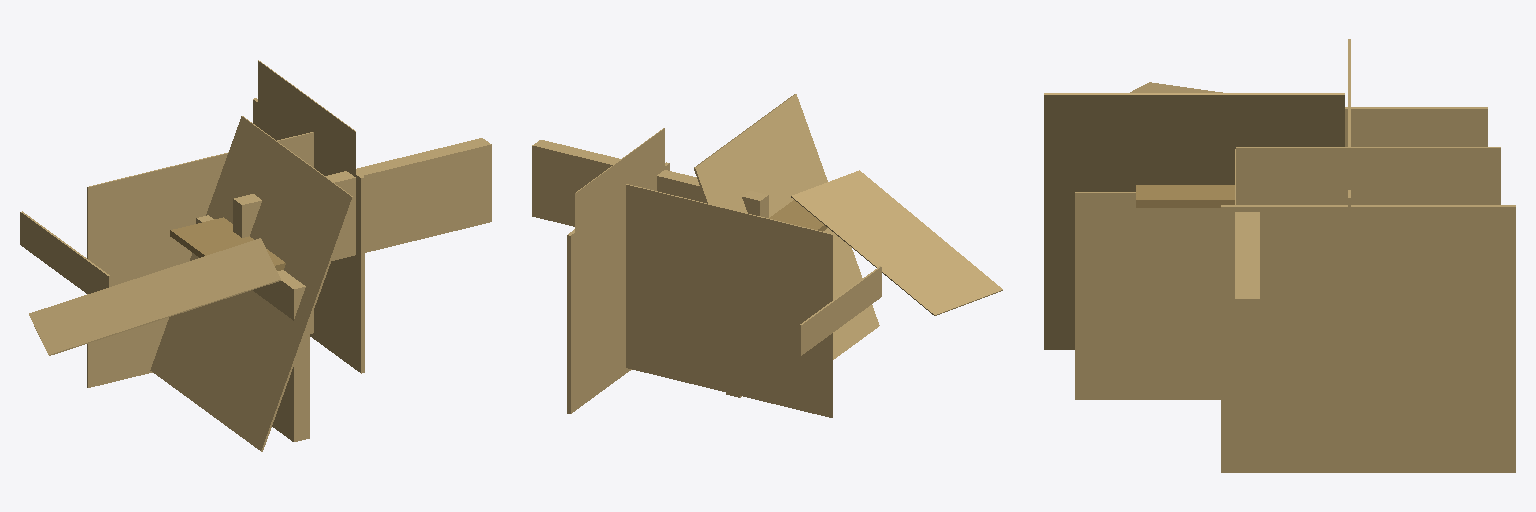
The robot description file, URDF, robot "evolved_design":
<?xml version="1.0" ?>
<robot name="evolved_design">
  <link name="base_link">
    <inertial>
      <mass value="0.001"/>
      <origin xyz="0 0 0" rpy="0 0 0"/>
      <inertia ixx="0.000001" ixy="0" ixz="0" iyy="0.000001" iyz="0" izz="0.000001"/>
    </inertial>
  </link>
  <link name="link_comp_0">
    <inertial>
      <mass value="8.460999"/>
      <origin xyz="0 0 0" rpy="0 0 0"/>
      <inertia ixx="0.354570512" ixy="0" ixz="0" iyy="0.153687697" iyz="0" izz="0.204408232"/>
    </inertial>
    <visual>
      <origin xyz="0 0 0" rpy="0 0 0"/>
      <geometry>
        <box size="0.050000 0.536103 0.464189"/>
      </geometry>
      <material name="link_comp_0_material">
        <color rgba="0.8 0.7 0.5 1"/>
      </material>
    </visual>
    <collision>
      <origin xyz="0 0 0" rpy="0 0 0"/>
      <geometry>
        <box size="0.050000 0.536103 0.464189"/>
      </geometry>
    </collision>
  </link>
  <joint name="base_link_to_link_comp_0" type="fixed">
    <parent link="base_link"/>
    <child link="link_comp_0"/>
    <origin xyz="0.025000 0.268052 0.232094" rpy="0.000000 0.000000 0.000000"/>
  </joint>
  <link name="link_comp_1">
    <inertial>
      <mass value="1.500321"/>
      <origin xyz="0 0 0" rpy="0 0 0"/>
      <inertia ixx="0.046464279" ixy="0" ixz="0" iyy="0.119057487" iyz="0" izz="0.072598849"/>
    </inertial>
    <visual>
      <origin xyz="0 0 0" rpy="0 0 0"/>
      <geometry>
        <box size="0.762000 0.004750 0.609600"/>
      </geometry>
      <material name="link_comp_1_material">
        <color rgba="0.8 0.7 0.5 1"/>
      </material>
    </visual>
    <collision>
      <origin xyz="0 0 0" rpy="0 0 0"/>
      <geometry>
        <box size="0.762000 0.004750 0.609600"/>
      </geometry>
    </collision>
  </link>
  <joint name="base_link_to_link_comp_1" type="fixed">
    <parent link="base_link"/>
    <child link="link_comp_1"/>
    <origin xyz="0.047473 0.555621 0.323646" rpy="0.000000 0.000000 0.000000"/>
  </joint>
  <link name="link_comp_2">
    <inertial>
      <mass value="0.212601"/>
      <origin xyz="0 0 0" rpy="0 0 0"/>
      <inertia ixx="0.004343697" ixy="0" ixz="0" iyy="0.000183588" iyz="0" izz="0.004161537"/>
    </inertial>
    <visual>
      <origin xyz="0 0 0" rpy="0 0 0"/>
      <geometry>
        <box size="0.006350 0.484616 0.101598"/>
      </geometry>
      <material name="link_comp_2_material">
        <color rgba="0.8 0.7 0.5 1"/>
      </material>
    </visual>
    <collision>
      <origin xyz="0 0 0" rpy="0 0 0"/>
      <geometry>
        <box size="0.006350 0.484616 0.101598"/>
      </geometry>
    </collision>
  </link>
  <joint name="base_link_to_link_comp_2" type="fixed">
    <parent link="base_link"/>
    <child link="link_comp_2"/>
    <origin xyz="-0.381959 0.594301 0.401203" rpy="0.000000 0.000000 0.000000"/>
  </joint>
  <link name="link_comp_3">
    <inertial>
      <mass value="0.667781"/>
      <origin xyz="0 0 0" rpy="0 0 0"/>
      <inertia ixx="0.036755775" ixy="0" ixz="0" iyy="0.020680131" iyz="0" izz="0.016076644"/>
    </inertial>
    <visual>
      <origin xyz="0 0 0" rpy="0 0 0"/>
      <geometry>
        <box size="0.002997 0.537483 0.609600"/>
      </geometry>
      <material name="link_comp_3_material">
        <color rgba="0.8 0.7 0.5 1"/>
      </material>
    </visual>
    <collision>
      <origin xyz="0 0 0" rpy="0 0 0"/>
      <geometry>
        <box size="0.002997 0.537483 0.609600"/>
      </geometry>
    </collision>
  </link>
  <joint name="base_link_to_link_comp_3" type="fixed">
    <parent link="base_link"/>
    <child link="link_comp_3"/>
    <origin xyz="0.385714 0.594703 0.416882" rpy="0.000000 0.000000 0.000000"/>
  </joint>
  <link name="link_comp_4">
    <inertial>
      <mass value="0.434203"/>
      <origin xyz="0 0 0" rpy="0 0 0"/>
      <inertia ixx="0.002761186" ixy="0" ixz="0" iyy="0.016445115" iyz="0" izz="0.019205450"/>
    </inertial>
    <visual>
      <origin xyz="0 0 0" rpy="0 0 0"/>
      <geometry>
        <box size="0.674151 0.276222 0.003429"/>
      </geometry>
      <material name="link_comp_4_material">
        <color rgba="0.8 0.7 0.5 1"/>
      </material>
    </visual>
    <collision>
      <origin xyz="0 0 0" rpy="0 0 0"/>
      <geometry>
        <box size="0.674151 0.276222 0.003429"/>
      </geometry>
    </collision>
  </link>
  <joint name="base_link_to_link_comp_4" type="fixed">
    <parent link="base_link"/>
    <child link="link_comp_4"/>
    <origin xyz="-0.338317 0.177916 0.448017" rpy="0.000000 -0.253033 -0.321895"/>
  </joint>
  <link name="link_comp_5">
    <inertial>
      <mass value="6.359711"/>
      <origin xyz="0 0 0" rpy="0 0 0"/>
      <inertia ixx="0.030865401" ixy="0" ixz="0" iyy="0.362209043" iyz="0" izz="0.333993521"/>
    </inertial>
    <visual>
      <origin xyz="0 0 0" rpy="0 0 0"/>
      <geometry>
        <box size="0.792278 0.050000 0.236092"/>
      </geometry>
      <material name="link_comp_5_material">
        <color rgba="0.8 0.7 0.5 1"/>
      </material>
    </visual>
    <collision>
      <origin xyz="0 0 0" rpy="0 0 0"/>
      <geometry>
        <box size="0.792278 0.050000 0.236092"/>
      </geometry>
    </collision>
  </link>
  <joint name="base_link_to_link_comp_5" type="fixed">
    <parent link="base_link"/>
    <child link="link_comp_5"/>
    <origin xyz="0.419385 0.349699 0.465255" rpy="0.000000 0.000000 0.000000"/>
  </joint>
  <link name="link_comp_6">
    <inertial>
      <mass value="3.057755"/>
      <origin xyz="0 0 0" rpy="0 0 0"/>
      <inertia ixx="0.180447841" ixy="0" ixz="0" iyy="0.089643326" iyz="0" izz="0.090886713"/>
    </inertial>
    <visual>
      <origin xyz="0 0 0" rpy="0 0 0"/>
      <geometry>
        <box size="0.012700 0.597092 0.592992"/>
      </geometry>
      <material name="link_comp_6_material">
        <color rgba="0.8 0.7 0.5 1"/>
      </material>
    </visual>
    <collision>
      <origin xyz="0 0 0" rpy="0 0 0"/>
      <geometry>
        <box size="0.012700 0.597092 0.592992"/>
      </geometry>
    </collision>
  </link>
  <joint name="base_link_to_link_comp_6" type="fixed">
    <parent link="base_link"/>
    <child link="link_comp_6"/>
    <origin xyz="0.390566 0.593625 0.296496" rpy="0.000000 0.000000 0.000000"/>
  </joint>
  <link name="link_comp_7">
    <inertial>
      <mass value="2.005777"/>
      <origin xyz="0 0 0" rpy="0 0 0"/>
      <inertia ixx="0.159167763" ixy="0" ixz="0" iyy="0.097060254" iyz="0" izz="0.062120989"/>
    </inertial>
    <visual>
      <origin xyz="0 0 0" rpy="0 0 0"/>
      <geometry>
        <box size="0.006350 0.609600 0.762000"/>
      </geometry>
      <material name="link_comp_7_material">
        <color rgba="0.8 0.7 0.5 1"/>
      </material>
    </visual>
    <collision>
      <origin xyz="0 0 0" rpy="0 0 0"/>
      <geometry>
        <box size="0.006350 0.609600 0.762000"/>
      </geometry>
    </collision>
  </link>
  <joint name="base_link_to_link_comp_7" type="fixed">
    <parent link="base_link"/>
    <child link="link_comp_7"/>
    <origin xyz="0.008171 0.242731 0.381000" rpy="0.000000 0.390684 0.000000"/>
  </joint>
  <link name="link_comp_8">
    <inertial>
      <mass value="1.105250"/>
      <origin xyz="0 0 0" rpy="0 0 0"/>
      <inertia ixx="0.010932444" ixy="0" ixz="0" iyy="0.005699530" iyz="0" izz="0.016565124"/>
    </inertial>
    <visual>
      <origin xyz="0 0 0" rpy="0 0 0"/>
      <geometry>
        <box size="0.248029 0.343997 0.019050"/>
      </geometry>
      <material name="link_comp_8_material">
        <color rgba="0.7 0.6 0.4 1"/>
      </material>
    </visual>
    <collision>
      <origin xyz="0 0 0" rpy="0 0 0"/>
      <geometry>
        <box size="0.248029 0.343997 0.019050"/>
      </geometry>
    </collision>
  </link>
  <joint name="base_link_to_link_comp_8" type="fixed">
    <parent link="base_link"/>
    <child link="link_comp_8"/>
    <origin xyz="0.002248 0.295550 0.474214" rpy="0.000000 0.000000 0.000000"/>
  </joint>
</robot>

--- What the picture shows (computed from the rendered views, not written in the file) ---
The picture shows the robot from 3 angles, left to right: view 1: azimuth 30°, elevation 25°; view 2: azimuth 150°, elevation 25°; view 3: azimuth 270°, elevation 25°; orthographic projection.
Model evolved_design with 10 links and 9 joints (9 fixed), rooted at base_link, posed all joints at 0.
Visible links, largest first — view 1: link_comp_7, link_comp_1, link_comp_5, link_comp_4, link_comp_3, link_comp_0, link_comp_6, link_comp_2, link_comp_8; view 2: link_comp_1, link_comp_4, link_comp_7, link_comp_3, link_comp_5, link_comp_6, link_comp_2, link_comp_8; view 3: link_comp_6, link_comp_7, link_comp_0, link_comp_3, link_comp_2, link_comp_5, link_comp_8, link_comp_1, link_comp_4.
Boxes of the visible links, x1,y1,x2,y2 form: link_comp_7: [150, 116, 353, 451]; link_comp_1: [87, 132, 313, 387]; link_comp_5: [233, 138, 491, 260]; link_comp_4: [29, 238, 280, 355]; link_comp_3: [258, 60, 355, 332]; link_comp_0: [196, 215, 309, 441]; link_comp_6: [253, 98, 364, 373]; link_comp_2: [20, 211, 110, 293]; link_comp_8: [170, 217, 285, 270]; link_comp_1: [626, 184, 832, 417]; link_comp_4: [791, 170, 1002, 315]; link_comp_7: [694, 94, 879, 359]; link_comp_3: [575, 128, 664, 376]; link_comp_5: [532, 140, 768, 226]; link_comp_6: [567, 162, 669, 413]; link_comp_2: [799, 266, 881, 355]; link_comp_8: [769, 200, 827, 231]; link_comp_6: [1221, 205, 1515, 472]; link_comp_7: [1044, 93, 1344, 349]; link_comp_0: [1075, 192, 1220, 399]; link_comp_3: [1236, 147, 1500, 204]; link_comp_2: [1345, 107, 1487, 146]; link_comp_5: [1235, 149, 1259, 404]; link_comp_8: [1136, 185, 1234, 207]; link_comp_1: [1348, 39, 1350, 470]; link_comp_4: [1130, 82, 1222, 92].
Bounding box of the posed robot: 1.51 × 0.9542 × 0.7345 m (x, y, z).
Geometry: primitives only (box / cylinder / sphere), no mesh files.